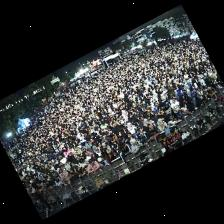person: (119, 143, 131, 167), (170, 98, 182, 118), (161, 96, 172, 114), (135, 115, 148, 130), (153, 111, 164, 128), (130, 139, 143, 153), (147, 125, 159, 139), (165, 114, 179, 126), (88, 160, 100, 173), (105, 149, 117, 162), (181, 102, 191, 117), (128, 122, 137, 138), (75, 166, 87, 178), (109, 138, 119, 152), (158, 119, 169, 131), (191, 86, 197, 106), (44, 179, 56, 189), (134, 108, 143, 121), (137, 133, 147, 144), (126, 134, 137, 144), (136, 127, 147, 137), (117, 132, 127, 143), (72, 154, 84, 163), (143, 119, 152, 131), (177, 85, 184, 100), (58, 168, 69, 177), (53, 176, 62, 187), (80, 158, 89, 169), (61, 177, 71, 186), (112, 122, 120, 133), (93, 146, 101, 156), (98, 158, 108, 166), (207, 87, 215, 97), (90, 153, 99, 161), (41, 182, 47, 194), (102, 142, 111, 150), (186, 85, 192, 97), (64, 160, 71, 170), (59, 155, 67, 163), (213, 84, 220, 93), (165, 146, 173, 153), (60, 163, 66, 170), (86, 152, 91, 159)
